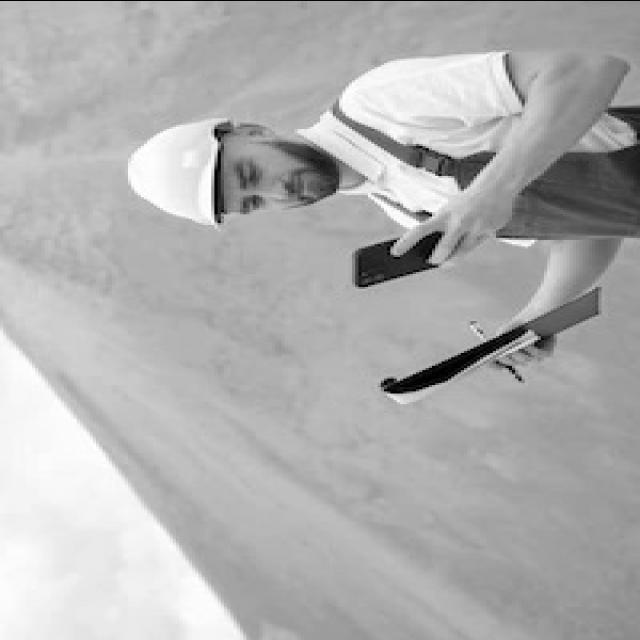safety_helmet: (125, 113, 237, 228)
